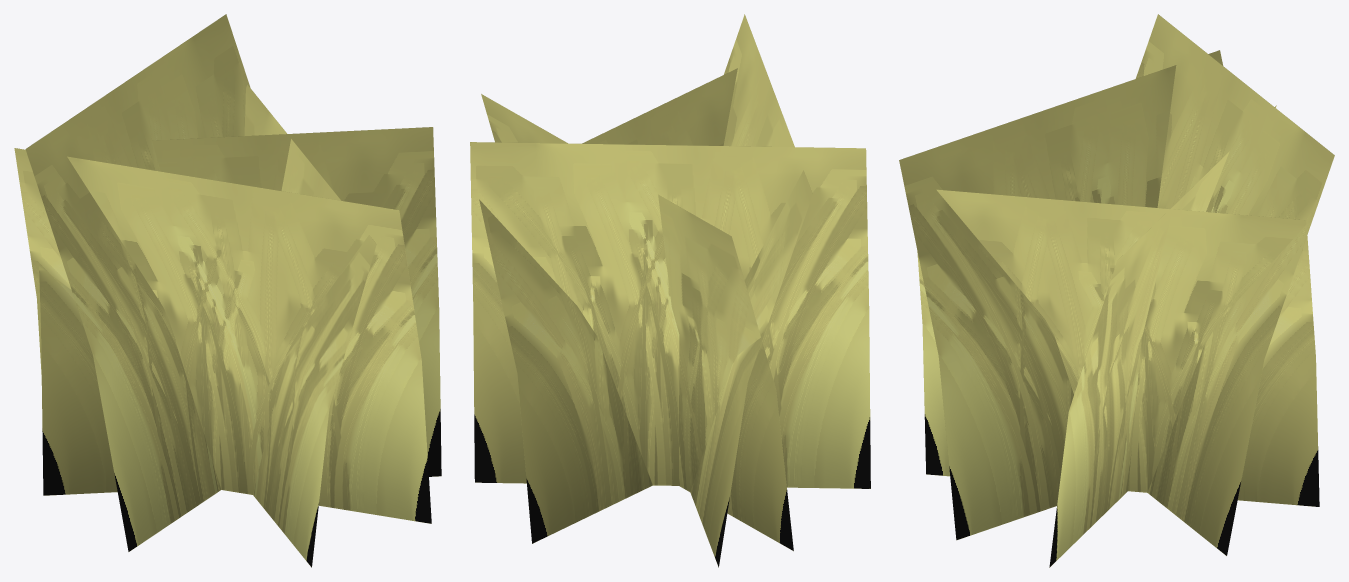
Rendered from beach_grass_1.glb.
The picture shows the model from 3 angles, left to right: view 1: azimuth 30°, elevation 25°; view 2: azimuth 150°, elevation 25°; view 3: azimuth 270°, elevation 25°; orthographic projection. The views are drawn at different scales.
Parts seen in each view (by area): view 1: beach_grass_1; view 2: beach_grass_1; view 3: beach_grass_1.
Boxes of the visible parts, left/top/right/bottom form: beach_grass_1: left=14, top=14, right=441, bottom=567; beach_grass_1: left=470, top=14, right=870, bottom=567; beach_grass_1: left=899, top=14, right=1334, bottom=567.
Bounding box in the file's own units: 0.8361 × 0.7756 × 0.8128.
1 material, 1 textured.
